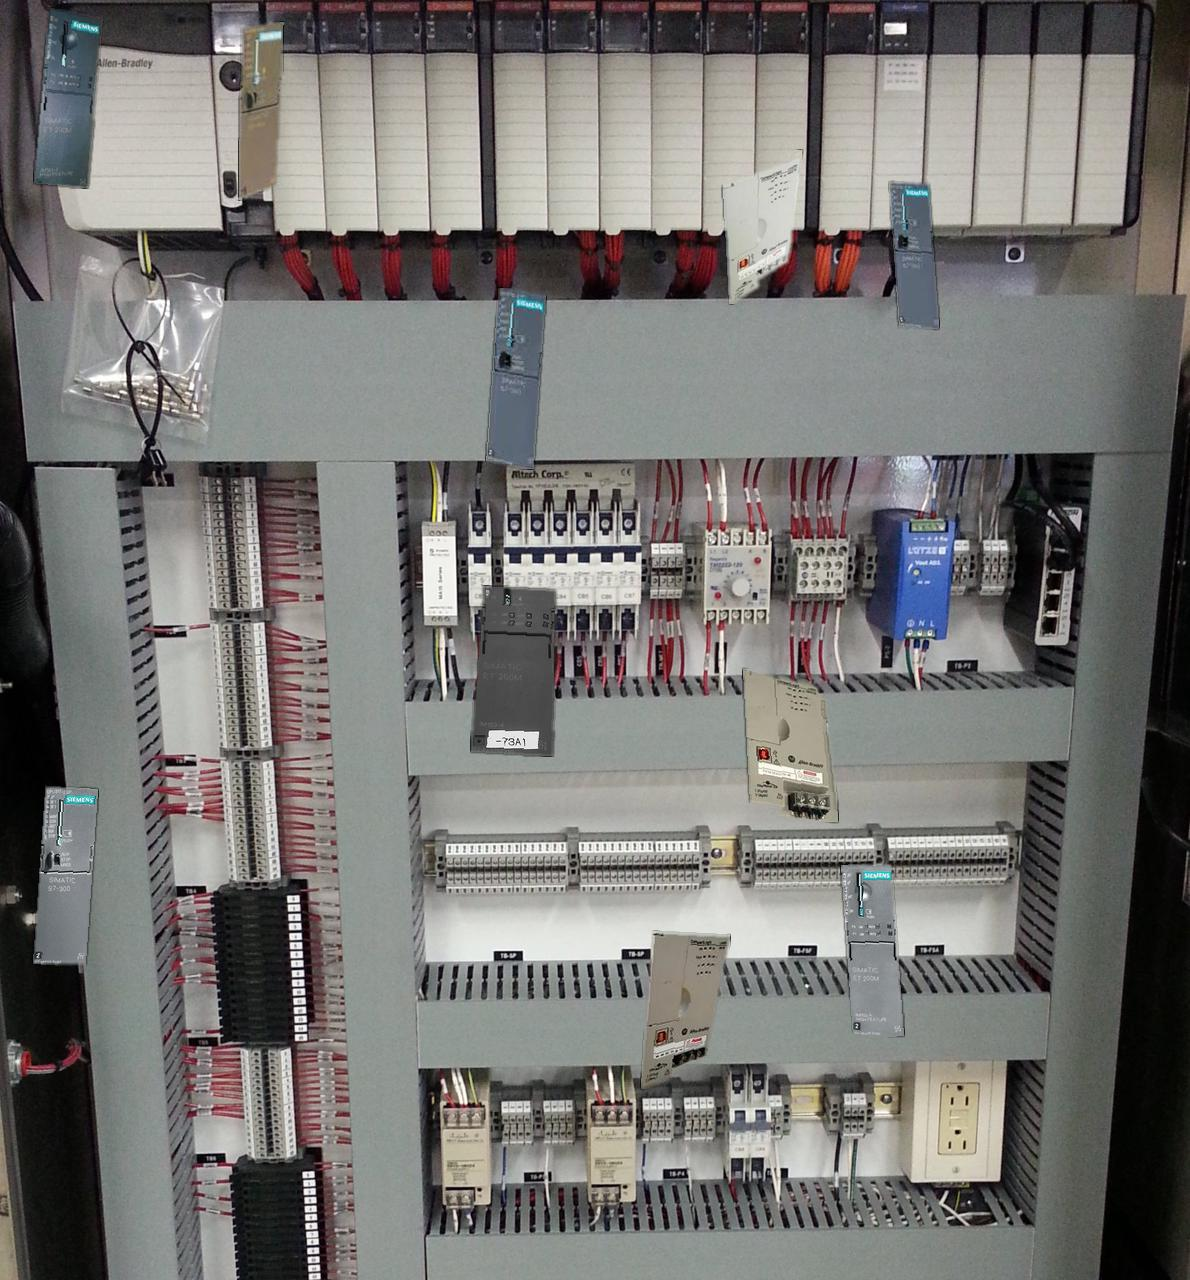AllenBradley: (743, 669, 837, 821), (641, 932, 729, 1088), (722, 150, 801, 303)
Siemens: (34, 787, 97, 964), (487, 288, 545, 468), (238, 22, 283, 199), (890, 182, 938, 328)
